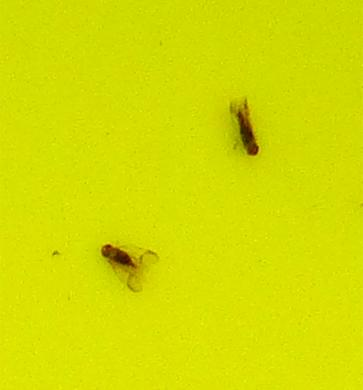Hemiptera: (100, 242, 155, 290), (225, 100, 263, 158)
